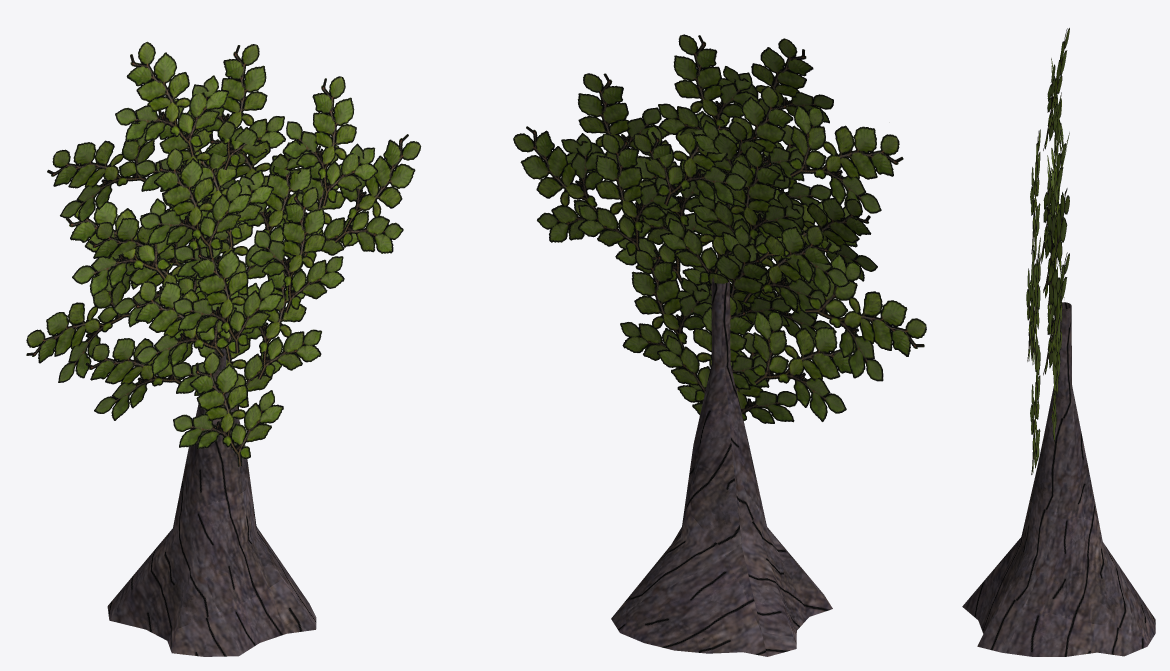
The model's file is Prop_Tree_A.fbx.
3 views of the same model, side by side, from view 1: azimuth 30°, elevation 25°; view 2: azimuth 150°, elevation 25°; view 3: azimuth 270°, elevation 25° (orthographic). The views are drawn at different scales.
Parts seen in each view (by area): view 1: Prop_Tree_A; view 2: Prop_Tree_A; view 3: Prop_Tree_A.
Boxes of the visible parts, bbox=[...] form: Prop_Tree_A: bbox=[26, 41, 421, 656]; Prop_Tree_A: bbox=[513, 34, 926, 656]; Prop_Tree_A: bbox=[962, 28, 1155, 656].
Bounding box in the file's own units: 7.2 × 9.26 × 2.85.
